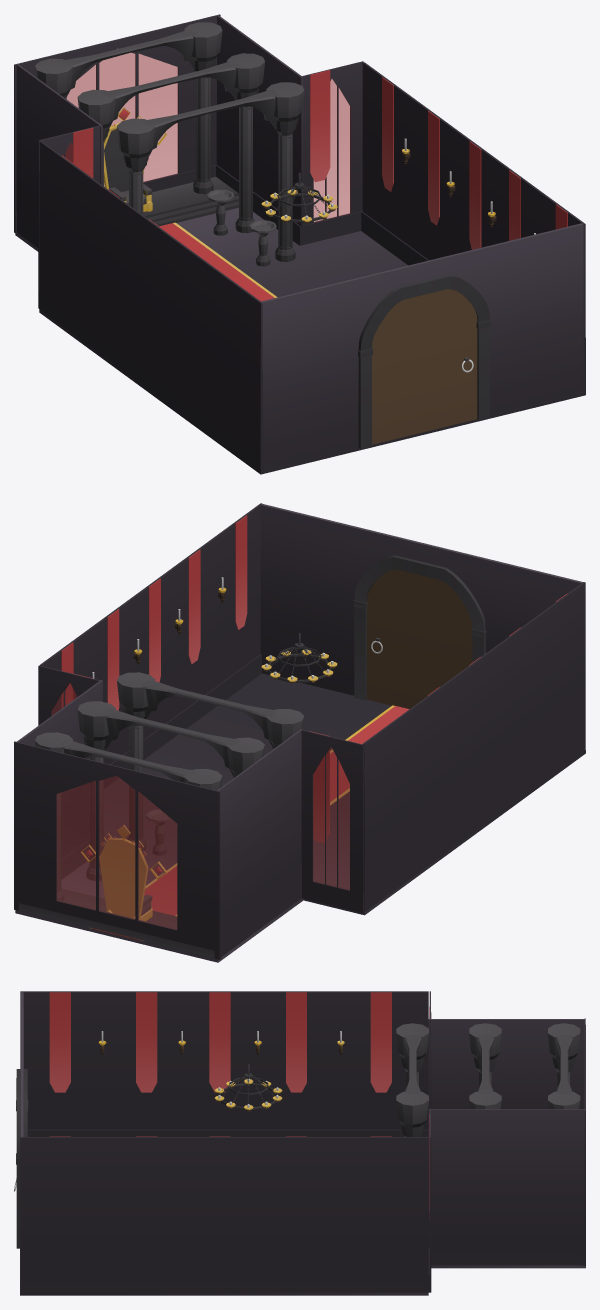
Rendered from Victoria.fbx.
The picture shows the model from 3 angles, top to bottom: view 1: azimuth 30°, elevation 25°; view 2: azimuth 150°, elevation 25°; view 3: azimuth 270°, elevation 25°; orthographic projection. The views are drawn at different scales.
Visible parts, largest first — view 1: pCube6, pCube11, pCube4, pCube119, pCube125, pCube30, pCube28, pCube3, pCube29, pCube32, pCube39, pCube33 (+35 smaller); view 2: pCube6, pCube11, pCube3, pCube119, pCube28, pCube29, pCube125, pCube31, pCube4, pCube37, pCube39, pCube38 (+33 smaller); view 3: pCube11, pCube6, pCube30, pCube29, pCube36, pCube53, pCube114, pCube52, pCube51, pCube28, pCylinder18, pCylinder12 (+9 smaller).
Part boxes in pixels (x1=…): pCube6: x1=39, y1=141, x2=264, y2=471; pCube11: x1=361, y1=62, x2=585, y2=392; pCube4: x1=261, y1=262, x2=423, y2=470; pCube119: x1=422, y1=223, x2=583, y2=415; pCube125: x1=372, y1=289, x2=477, y2=444; pCube30: x1=216, y1=15, x2=303, y2=245; pCube28: x1=39, y1=231, x2=585, y2=474; pCube3: x1=14, y1=14, x2=220, y2=233; pCube29: x1=16, y1=63, x2=102, y2=248; pCube32: x1=299, y1=61, x2=363, y2=244; pCube39: x1=138, y1=54, x2=177, y2=181; pCube33: x1=15, y1=208, x2=299, y2=262; pCube6: x1=362, y1=582, x2=585, y2=911; pCube11: x1=39, y1=503, x2=262, y2=788; pCube3: x1=14, y1=741, x2=221, y2=959; pCube119: x1=260, y1=504, x2=422, y2=695; pCube28: x1=103, y1=673, x2=585, y2=915; pCube29: x1=216, y1=729, x2=303, y2=956; pCube125: x1=367, y1=569, x2=472, y2=709; pCube31: x1=301, y1=730, x2=364, y2=912; pCube4: x1=421, y1=543, x2=582, y2=652; pCube37: x1=99, y1=775, x2=135, y2=919; pCube39: x1=56, y1=780, x2=95, y2=910; pCube38: x1=138, y1=791, x2=177, y2=929; pCube11: x1=20, y1=1137, x2=428, y2=1292; pCube6: x1=20, y1=991, x2=428, y2=1136; pCube30: x1=428, y1=1109, x2=585, y2=1265; pCube29: x1=428, y1=1019, x2=585, y2=1109; pCube36: x1=370, y1=992, x2=391, y2=1092; pCube53: x1=136, y1=992, x2=157, y2=1092; pCube114: x1=49, y1=992, x2=70, y2=1092; pCube52: x1=209, y1=992, x2=230, y2=1092; pCube51: x1=286, y1=992, x2=306, y2=1092; pCube28: x1=20, y1=1249, x2=428, y2=1295; pCylinder18: x1=396, y1=1090, x2=428, y2=1136; pCylinder12: x1=396, y1=1023, x2=428, y2=1069.
Bounding box in the file's own units: 52.57 × 26.41 × 86.69.
